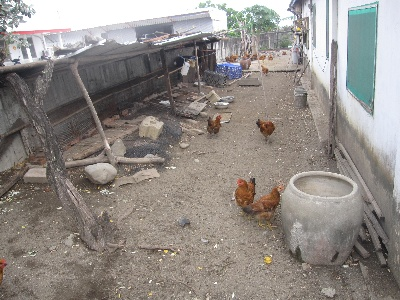bowl: (240, 54, 253, 70), (213, 102, 231, 110), (220, 94, 235, 102)
bucket: (278, 170, 366, 266), (294, 92, 309, 110)
